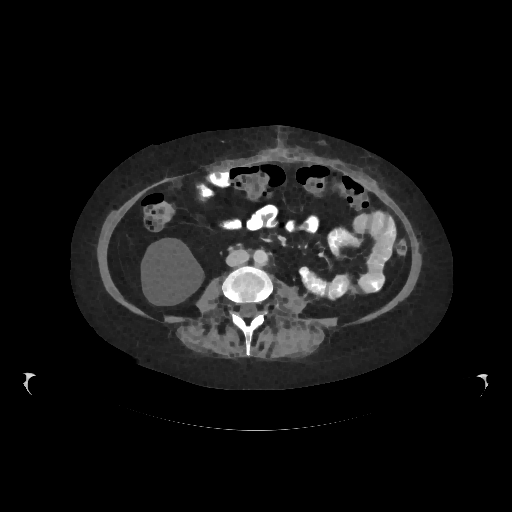Lesion: (138, 235, 208, 309)
